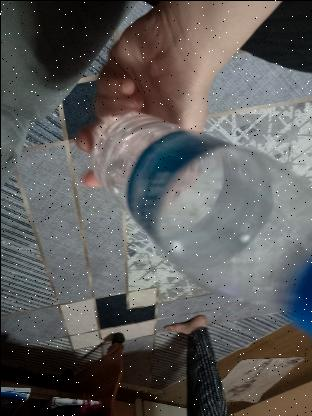Plastic Bottle: (89, 106, 312, 330)
